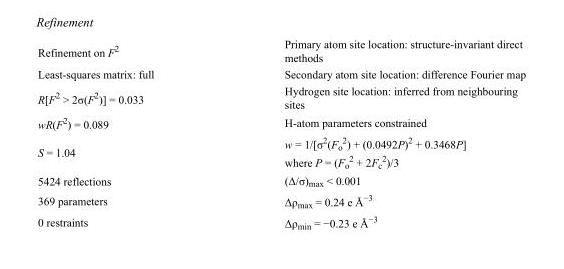table: (37, 37, 525, 230)
table column: (218, 37, 525, 230), (37, 37, 218, 230)
table row: (37, 132, 525, 171), (37, 82, 525, 112), (37, 37, 525, 65), (37, 190, 525, 211), (37, 112, 525, 132), (37, 171, 525, 190), (37, 211, 525, 230), (37, 65, 525, 82)
